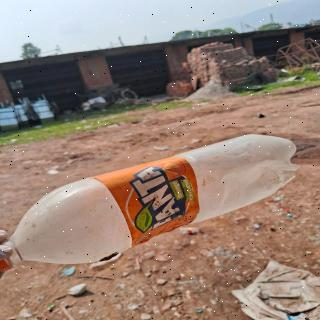Plastic-bottle: (4, 116, 304, 278)
